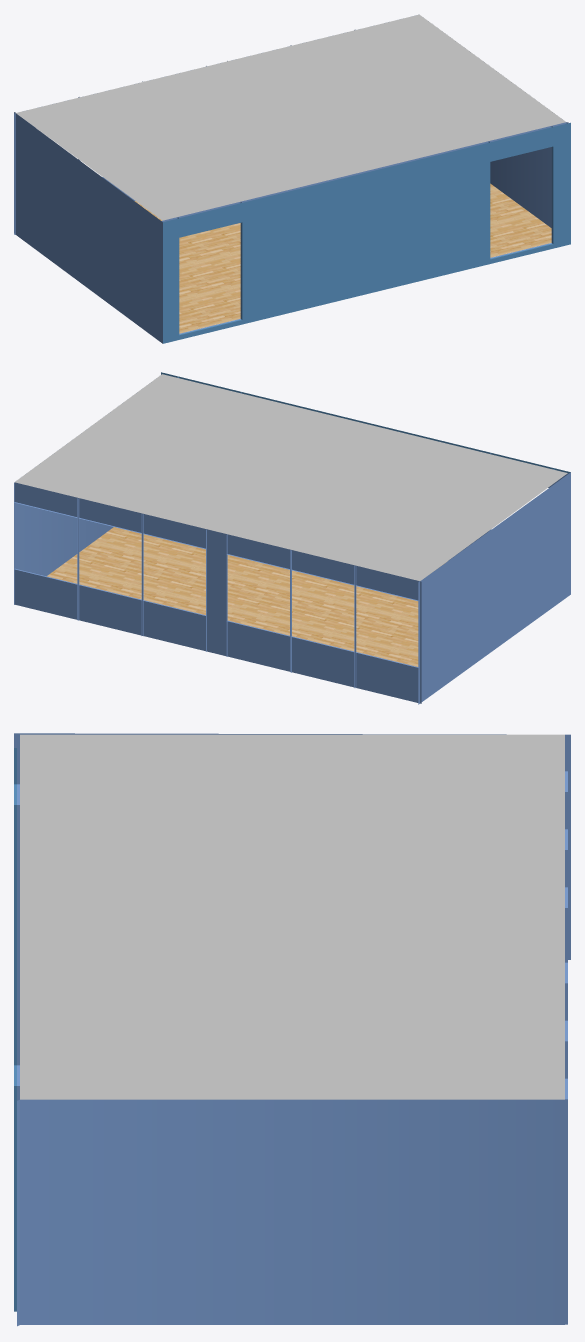
Rendered from demo_class.fbx.
3 views of the same model, one above another, from view 1: azimuth 30°, elevation 25°; view 2: azimuth 150°, elevation 25°; view 3: azimuth 270°, elevation 25° (orthographic). The views are drawn at different scales.
Visible parts, largest first — view 1: ceil_1st_class_1_3, wall_outer_1st_class_213, wall_1st_class_1_3, floor_1st_class_213; view 2: ceil_1st_class_1_3, wall_1st_class_1_3, floor_1st_class_213, wall_outer_1st_class_213; view 3: ceil_1st_class_1_3, wall_1st_class_1_3, wall_outer_1st_class_213.
Part boxes in pixels (<box>): ceil_1st_class_1_3: <box>16,14,565,220</box>; wall_outer_1st_class_213: <box>163,122,570,343</box>; wall_1st_class_1_3: <box>14,29,568,343</box>; floor_1st_class_213: <box>134,183,551,333</box>; ceil_1st_class_1_3: <box>15,374,567,580</box>; wall_1st_class_1_3: <box>14,377,570,704</box>; floor_1st_class_213: <box>47,527,444,666</box>; wall_outer_1st_class_213: <box>161,372,570,529</box>; ceil_1st_class_1_3: <box>20,734,564,1099</box>; wall_1st_class_1_3: <box>14,733,570,1326</box>; wall_outer_1st_class_213: <box>14,748,16,1311</box>.
Size of the model in its own units: 1095 by 312 by 699.
Materials: 4 (1 with a texture image).
